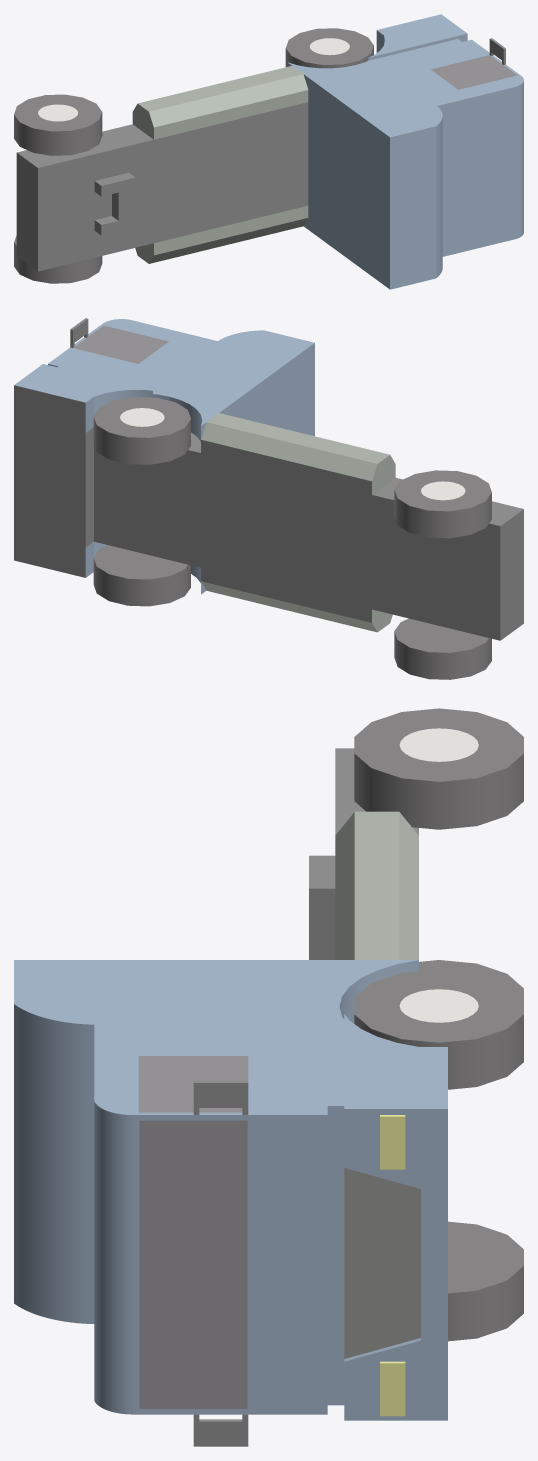
Rendered from truck_3.dae.
3 renders of one model, top to bottom at view 1: azimuth 30°, elevation 25°; view 2: azimuth 150°, elevation 25°; view 3: azimuth 270°, elevation 25°, orthographic. The views are drawn at different scales.
Parts seen in each view (by area): view 1: instance_0_003, instance_0_004, instance_0_006, instance_0, instance_0_009, instance_0_019; view 2: instance_0_004, instance_0_003, instance_0, instance_0_006, instance_0_009, instance_0_019; view 3: instance_0_003, instance_0, instance_0_009, instance_0_014, instance_0_006, instance_0_004, instance_0_019, instance_0_008, instance_0_005.
Boxes of the visible parts, x1,y1,x2,y2 form: instance_0_003: (287, 14, 523, 289); instance_0_004: (16, 102, 308, 271); instance_0_006: (132, 66, 308, 263); instance_0: (14, 28, 373, 283); instance_0_009: (431, 55, 517, 89); instance_0_019: (38, 38, 349, 121); instance_0_004: (14, 385, 523, 640); instance_0_003: (14, 319, 314, 594); instance_0: (93, 397, 491, 679); instance_0_006: (201, 413, 395, 632); instance_0_009: (73, 325, 168, 363); instance_0_019: (120, 408, 465, 500); instance_0_003: (14, 960, 447, 1420); instance_0: (354, 708, 523, 1341); instance_0_009: (138, 1056, 248, 1408); instance_0_014: (344, 1168, 420, 1358); instance_0_006: (335, 811, 418, 959); instance_0_004: (309, 748, 418, 959); instance_0_019: (399, 728, 478, 1022); instance_0_008: (193, 1080, 248, 1446); instance_0_005: (380, 1115, 405, 1416).
Bounding box in the file's own units: 1996 × 813 × 1034.
